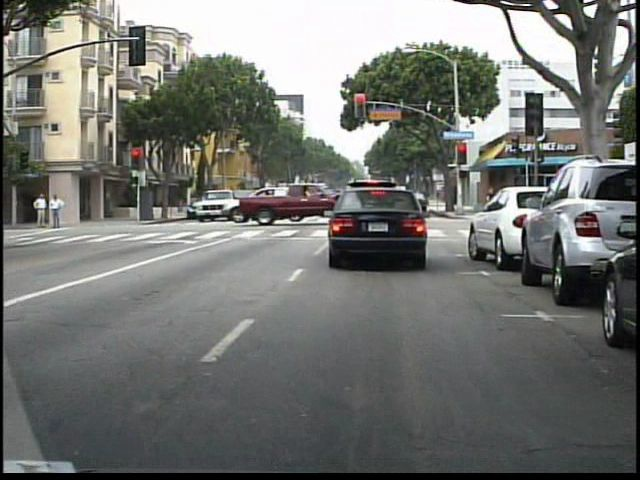person: (30, 189, 47, 231), (47, 191, 64, 231)
